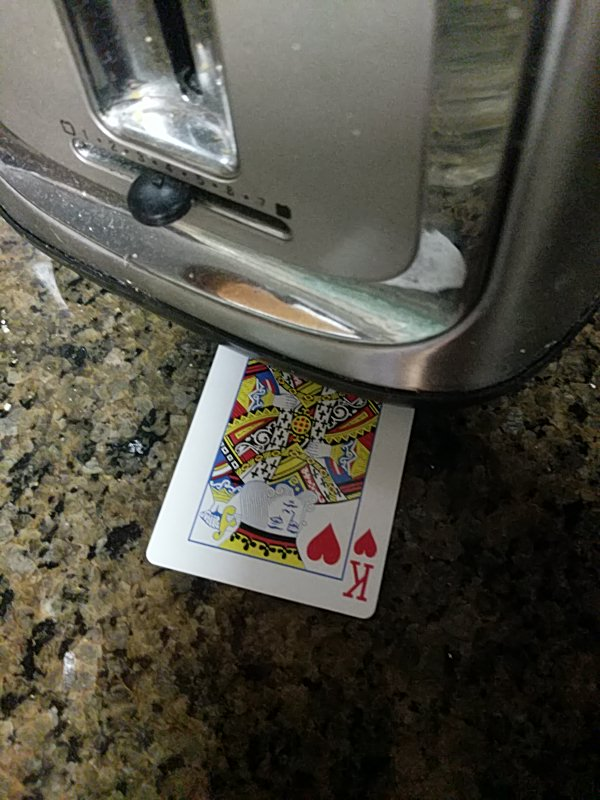Hearts: (146, 344, 414, 623)
